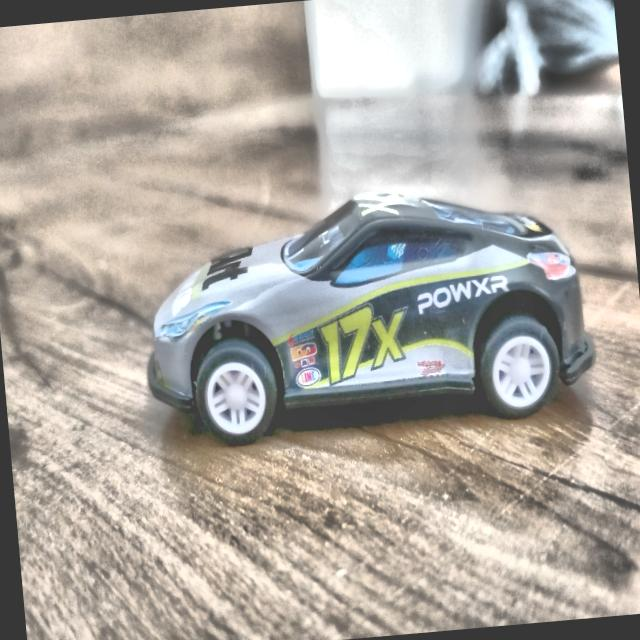Car: (124, 164, 602, 452)
